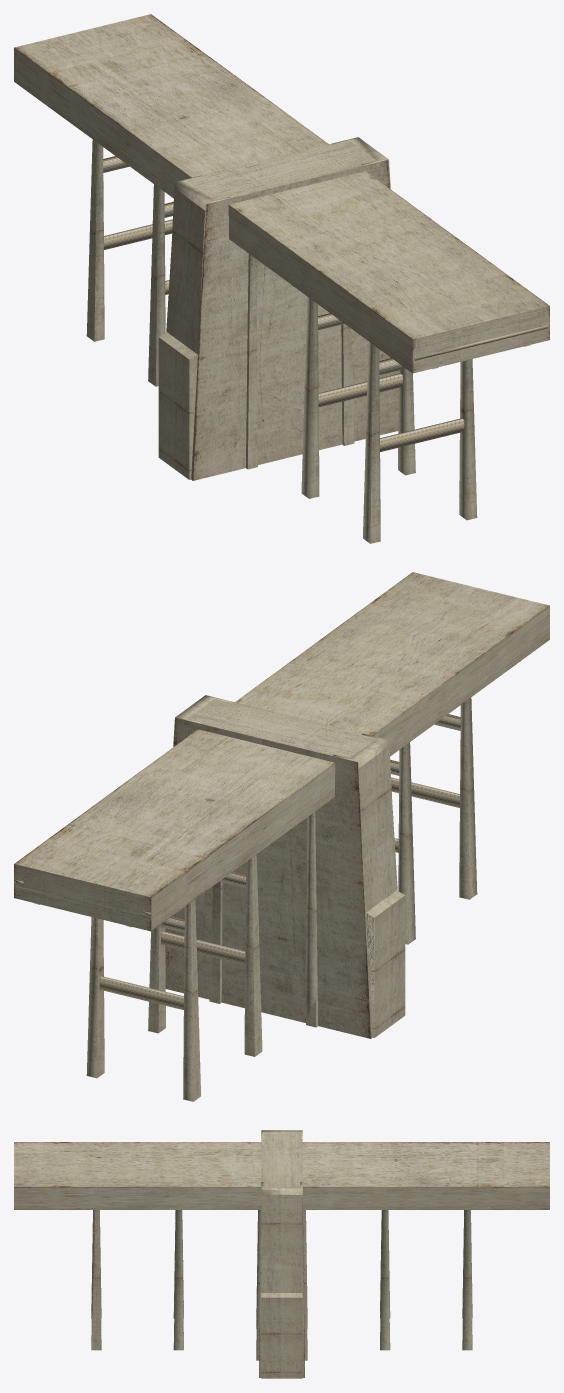
File: concrete_bridge_01a.DAE
3 views of the same model, one above another, from view 1: azimuth 30°, elevation 25°; view 2: azimuth 150°, elevation 25°; view 3: azimuth 270°, elevation 25° (orthographic). The views are drawn at different scales.
Parts seen in each view (by area): view 1: concrete_bridge_01a1, Colmesh-1, concrete_bridge_01a1600, concrete_bridge_01a500; view 2: concrete_bridge_01a1, Colmesh-1, concrete_bridge_01a1600, concrete_bridge_01a500; view 3: concrete_bridge_01a1, Colmesh-1, concrete_bridge_01a500, concrete_bridge_01a1600.
Boxes of the visible parts, left/top/right/bottom form: concrete_bridge_01a1: left=14, top=14, right=549, bottom=480; Colmesh-1: left=89, top=137, right=547, bottom=543; concrete_bridge_01a1600: left=18, top=15, right=549, bottom=543; concrete_bridge_01a500: left=158, top=188, right=549, bottom=479; concrete_bridge_01a1: left=14, top=572, right=549, bottom=1038; Colmesh-1: left=14, top=695, right=477, bottom=1101; concrete_bridge_01a1600: left=18, top=573, right=545, bottom=1101; concrete_bridge_01a500: left=17, top=573, right=546, bottom=1037; concrete_bridge_01a1: left=14, top=1133, right=549, bottom=1377; Colmesh-1: left=91, top=1130, right=472, bottom=1360; concrete_bridge_01a500: left=14, top=1143, right=307, bottom=1378; concrete_bridge_01a1600: left=14, top=1143, right=549, bottom=1378.
Bounding box in the file's own units: 1463 × 4680 × 1760.
